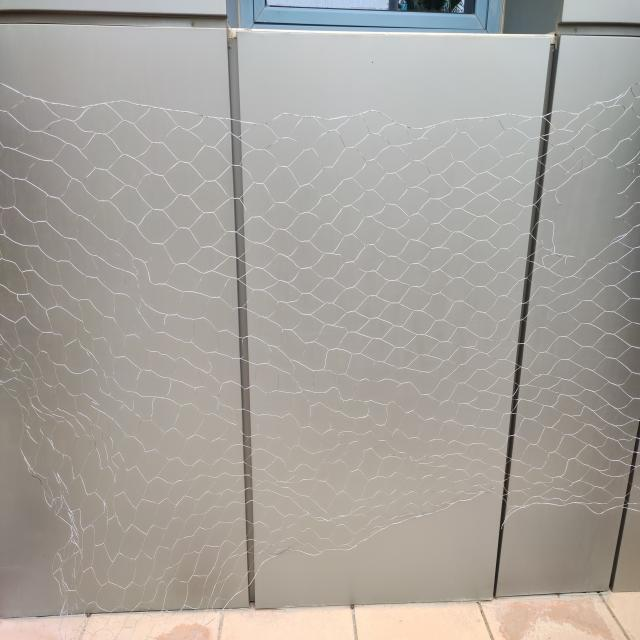fence line: (237, 505, 633, 606), (4, 394, 82, 613)
